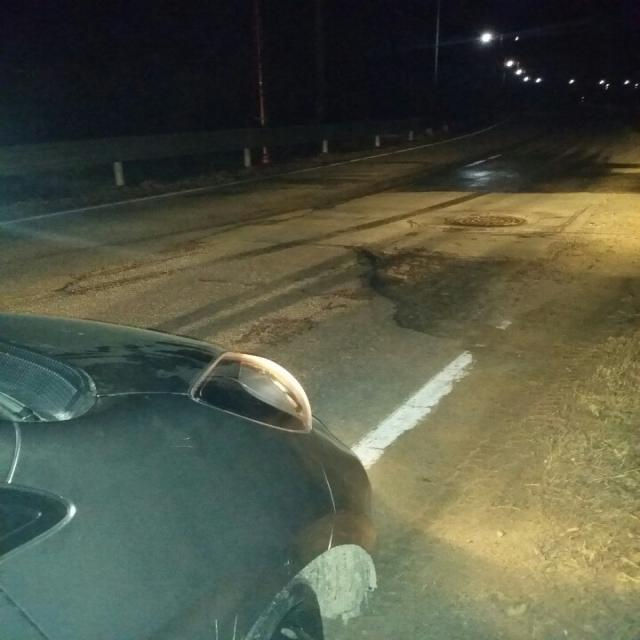pothole: (339, 240, 533, 374)
